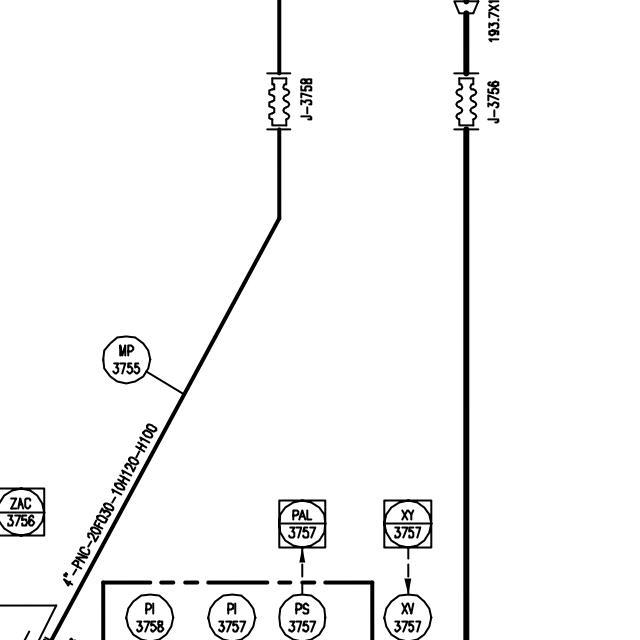EJ: (262, 67, 296, 138), (450, 67, 484, 136)
